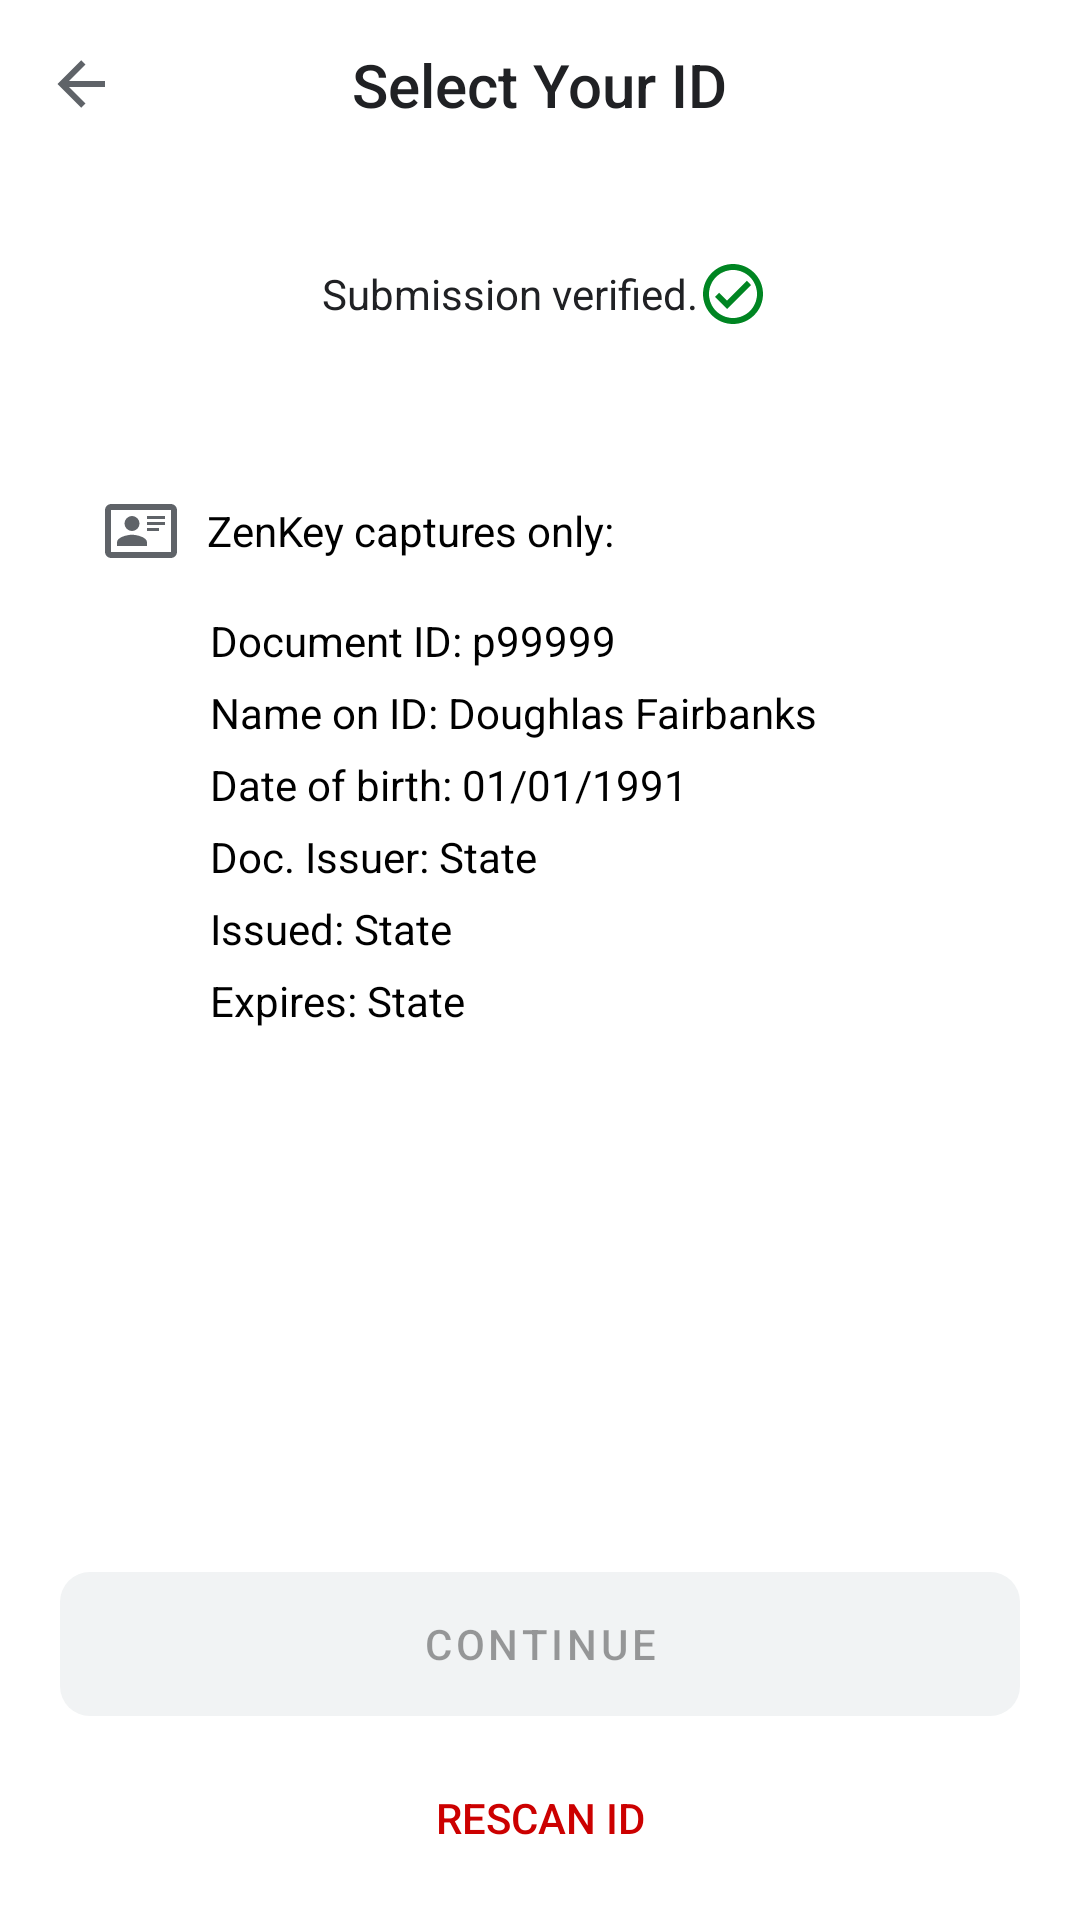

Where icons sit on this 1080px×1920px app screen, as box(x1, y1, x2, y2):
arrow left: box(58, 60, 105, 108)
